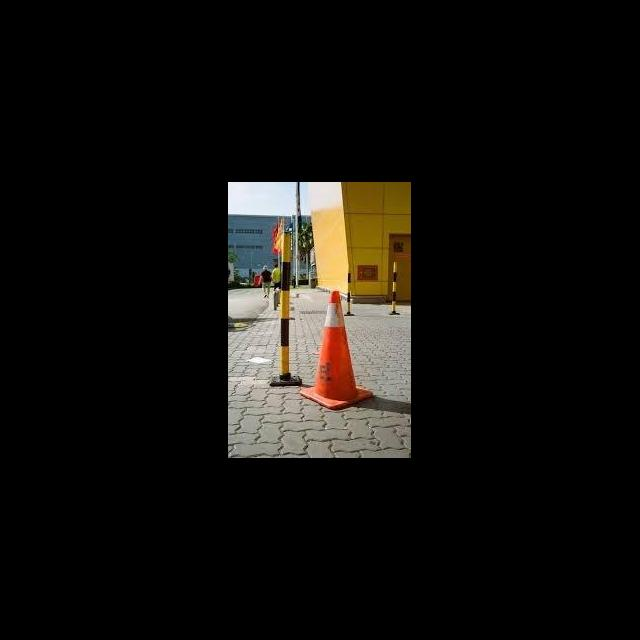NO-Hardhat: (263, 265, 268, 269), (274, 264, 278, 267)
NO-Safety Vest: (274, 269, 281, 282), (263, 272, 271, 282)
Person: (261, 265, 272, 298), (272, 264, 281, 292)
Safety Cone: (304, 290, 375, 410)
